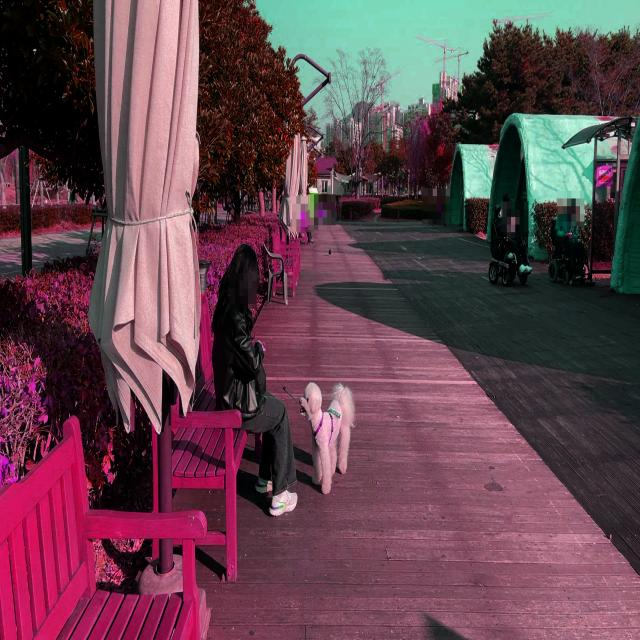Leashed_Dog: (249, 342, 356, 495)
